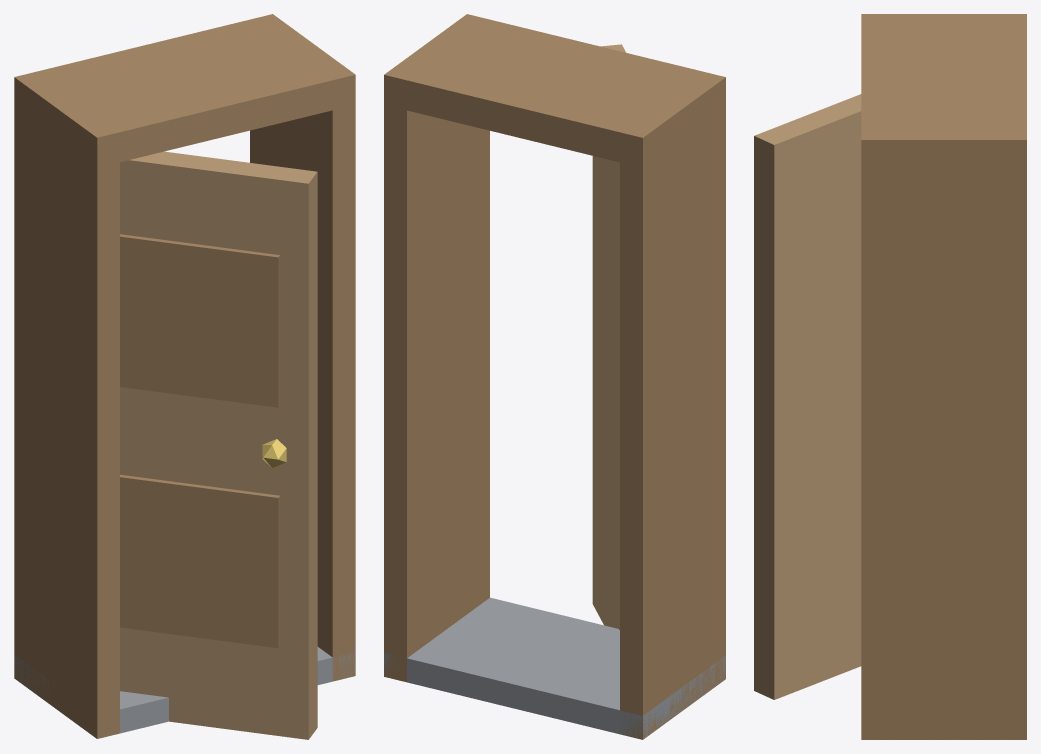
File: animprop_door_02.glb
The picture shows the model from 3 angles, left to right: view 1: azimuth 30°, elevation 25°; view 2: azimuth 150°, elevation 25°; view 3: azimuth 270°, elevation 25°; orthographic projection.
Visible parts, largest first — view 1: animprop; view 2: animprop; view 3: animprop.
Part boxes in pixels (x1=…): animprop: x1=14, y1=14, x2=355, y2=739; animprop: x1=384, y1=14, x2=725, y2=739; animprop: x1=754, y1=14, x2=1026, y2=739.
Size of the model in its own units: 0.9 by 2 by 0.8241.
